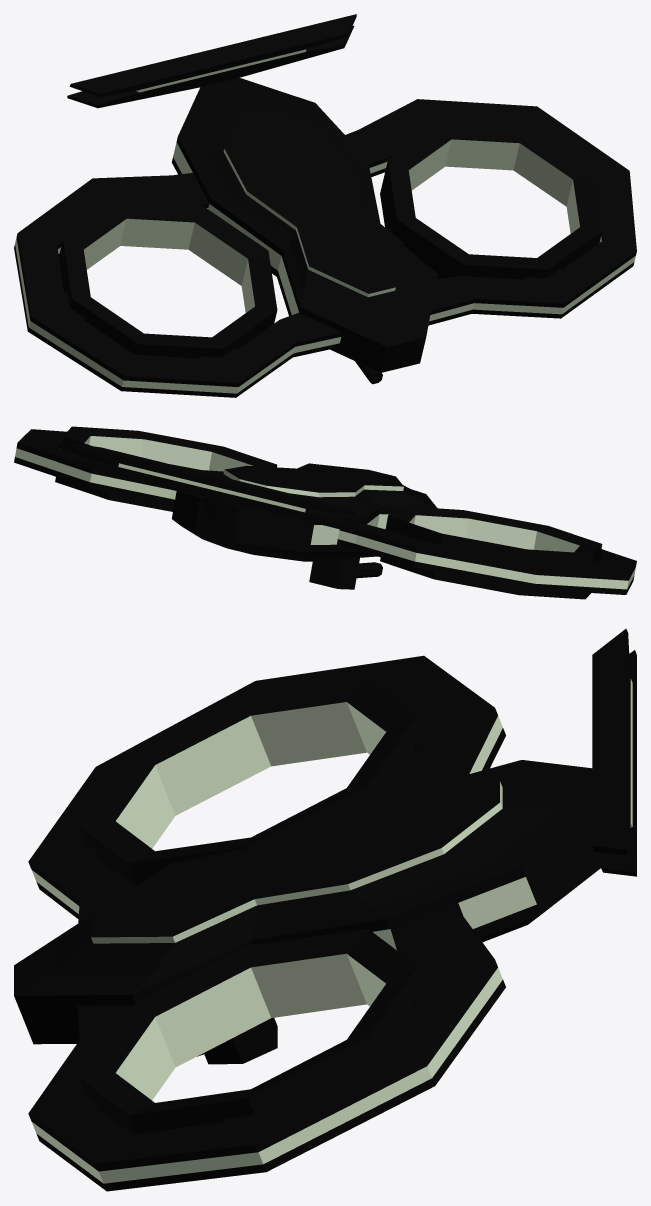
File: SM_CYBER_Drone_B.fbx
3 views of the same model, one above another, from view 1: azimuth 30°, elevation 25°; view 2: azimuth 150°, elevation 25°; view 3: azimuth 270°, elevation 25° (orthographic). The views are drawn at different scales.
Visible parts, largest first — view 1: SM_CYBER_Drone_B; view 2: SM_CYBER_Drone_B; view 3: SM_CYBER_Drone_B.
Part boxes in pixels (x1,y1,x2,y2): SM_CYBER_Drone_B: (14,14,636,397); SM_CYBER_Drone_B: (14,426,636,599); SM_CYBER_Drone_B: (14,628,636,1191).
Bounding box in the file's own units: 0.1807 × 0.0624 × 0.1026.
